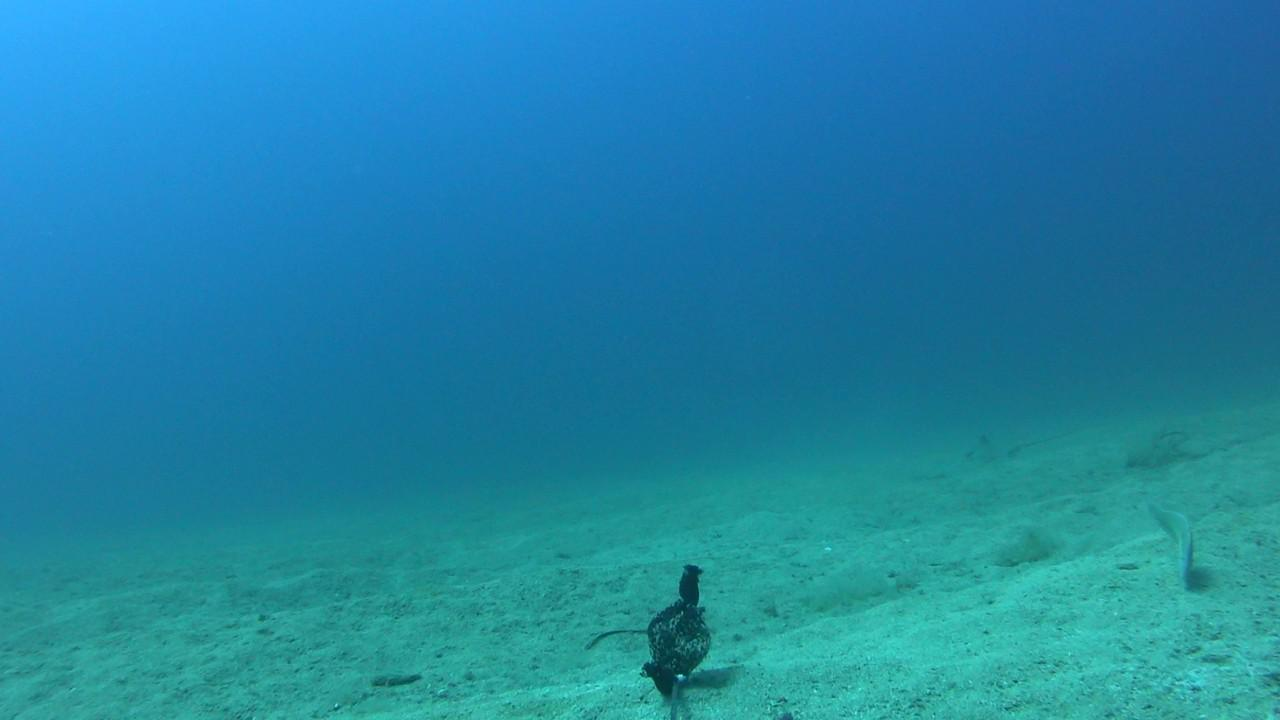myliobatis: (930, 427, 1074, 469)
raor: (1139, 500, 1196, 588)
